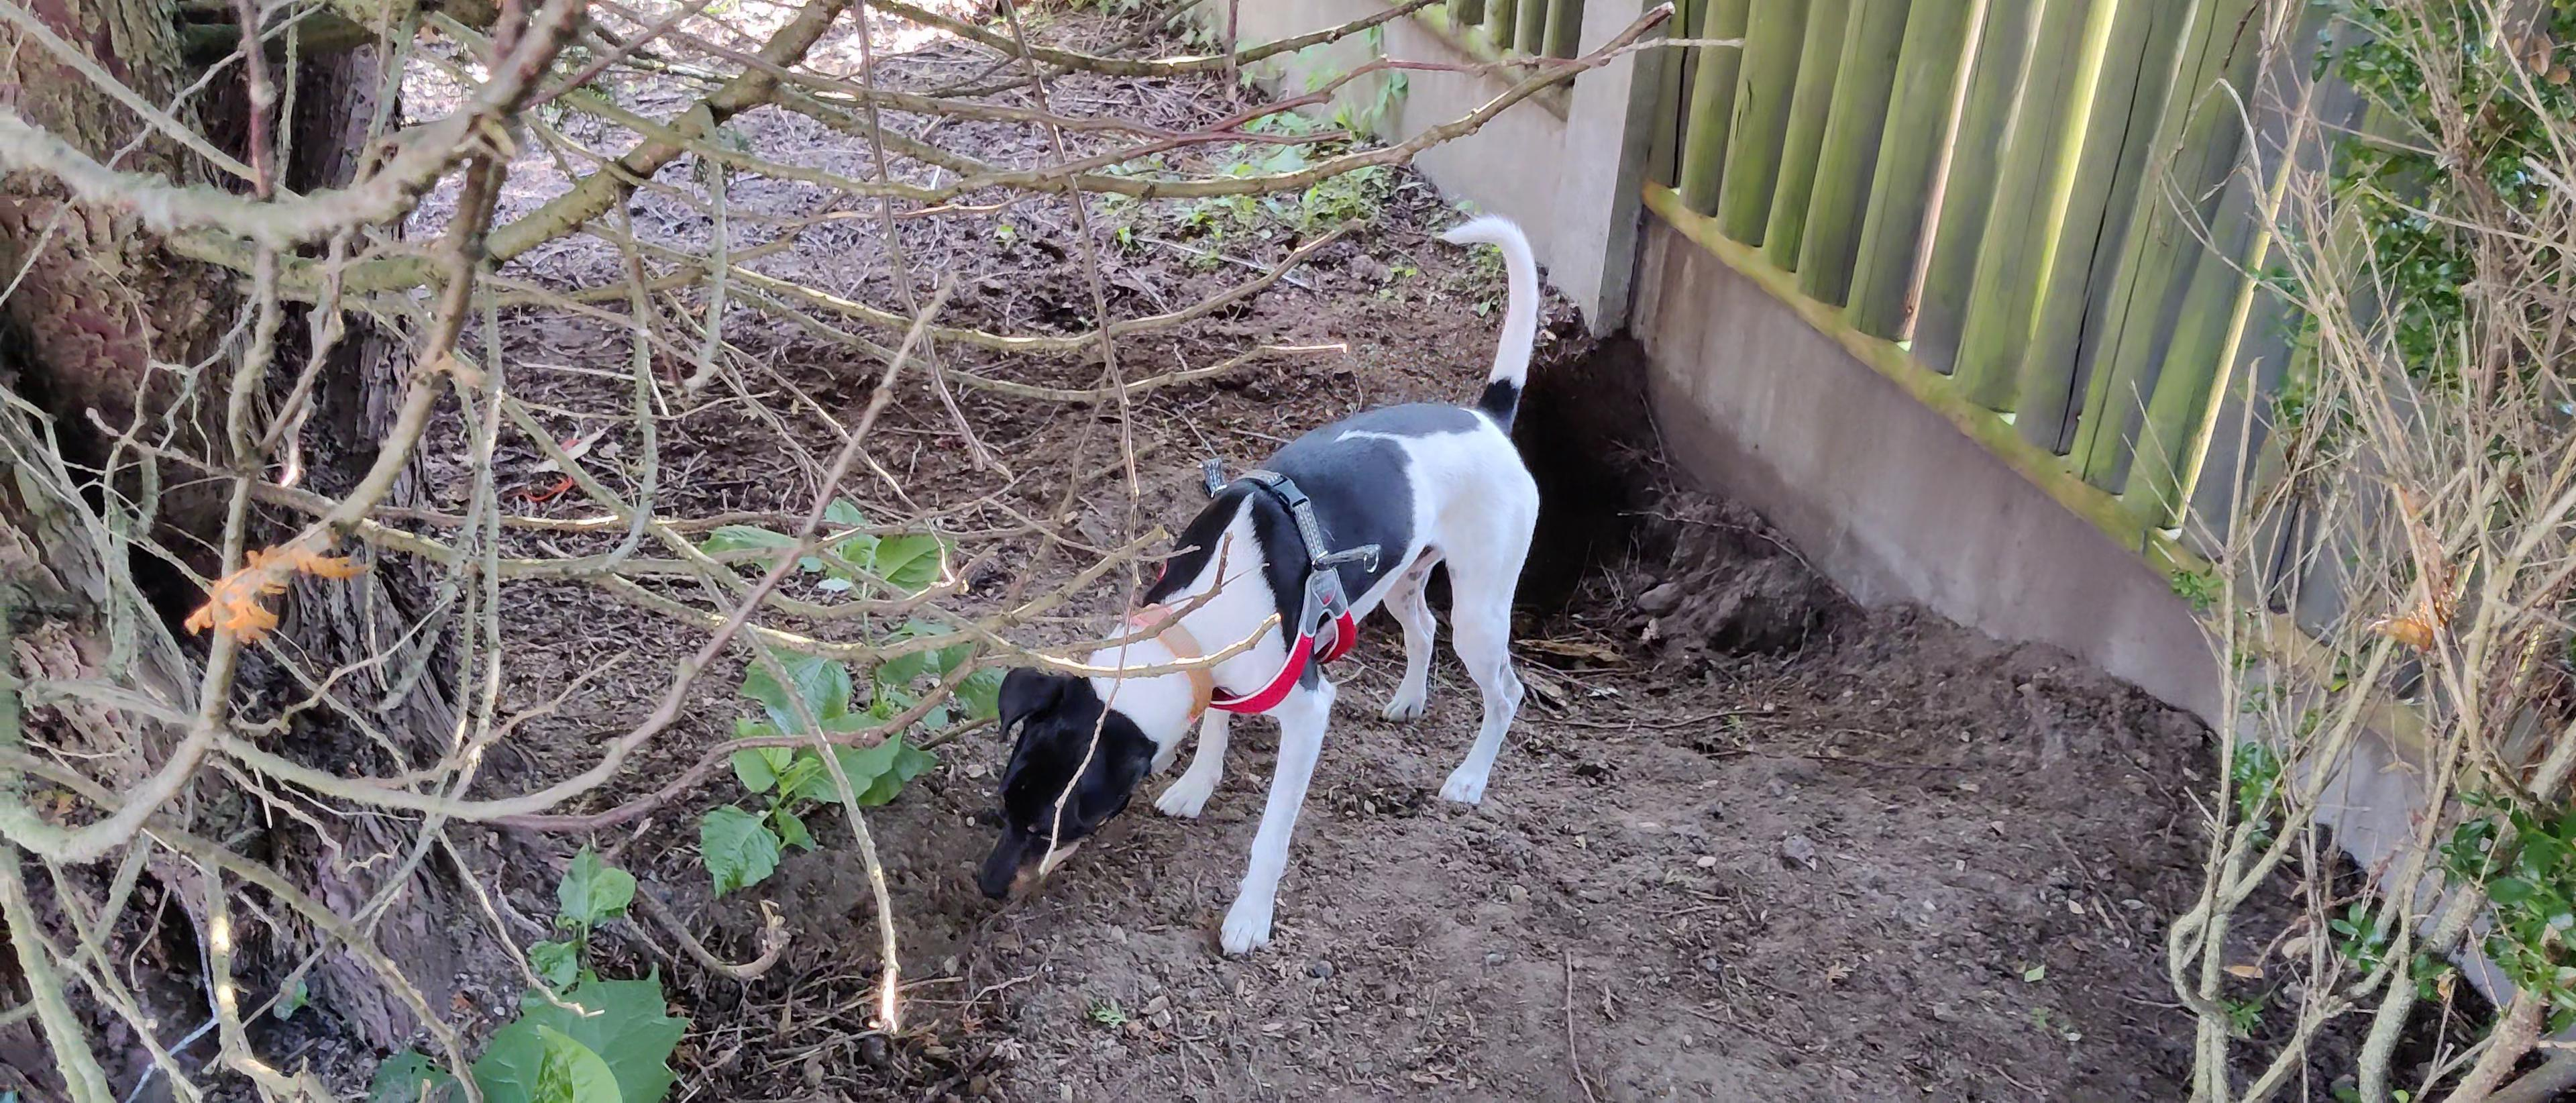Dog: (922, 205, 1574, 975)
